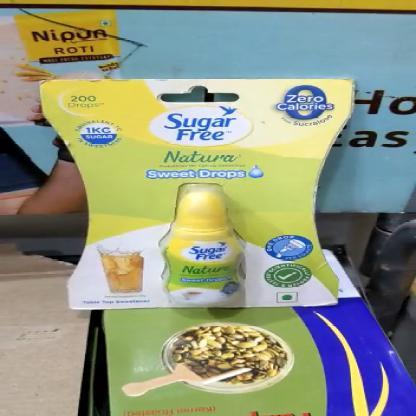SUGAR FREE NATURA SWEET DROPS: (40, 77, 356, 311)
